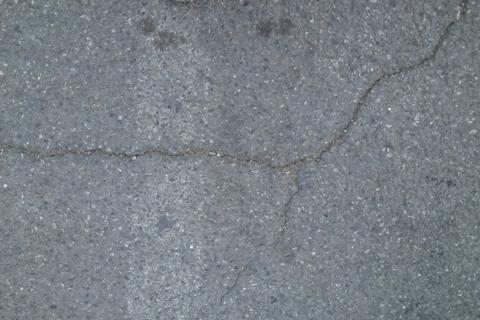crack: (2, 130, 300, 172), (221, 167, 300, 320), (305, 67, 391, 174), (392, 0, 480, 91)
